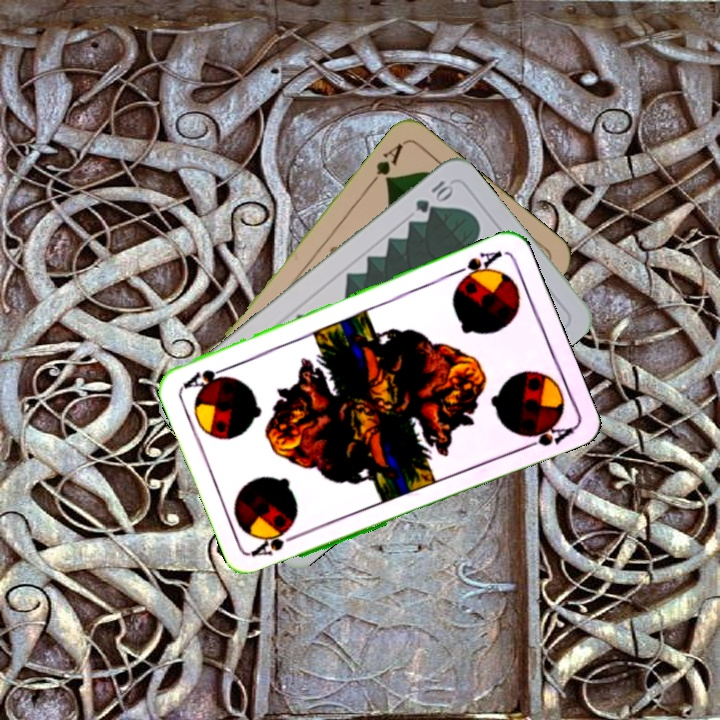G10: (411, 176, 456, 216)
GA: (365, 139, 406, 189)
SA: (448, 246, 505, 286), (248, 525, 306, 559)
